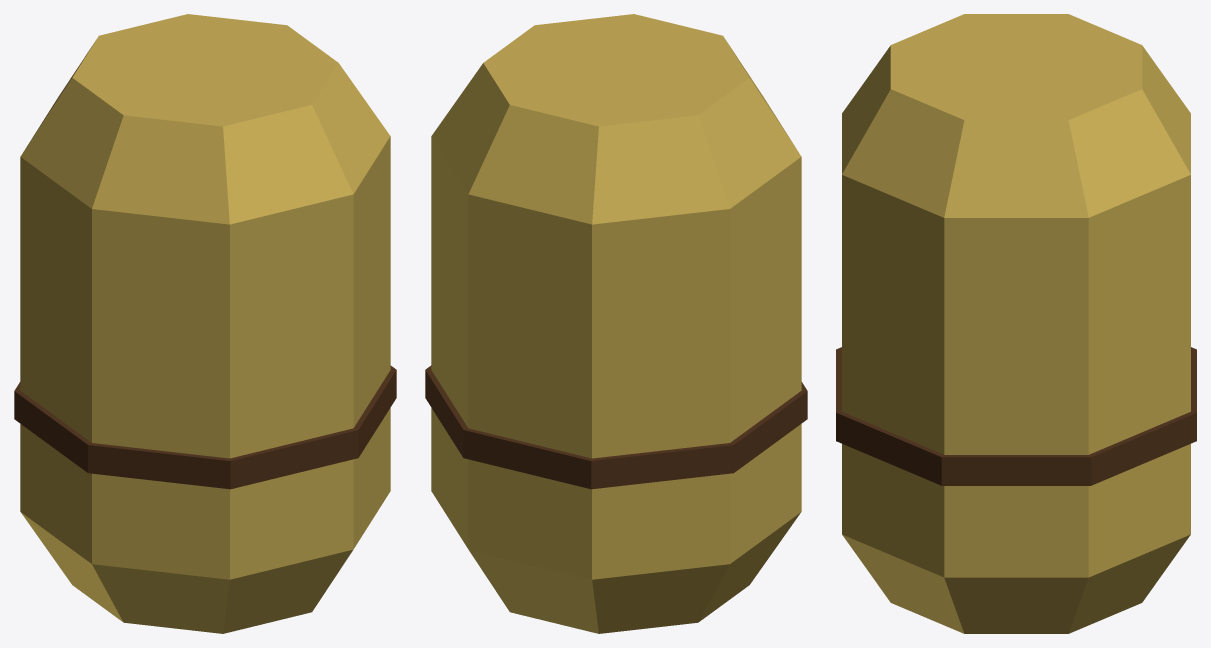
The model's file is hay.glb.
3 renders of one model, left to right at view 1: azimuth 30°, elevation 25°; view 2: azimuth 150°, elevation 25°; view 3: azimuth 270°, elevation 25°, orthographic.
Parts seen in each view (by area): view 1: hay; view 2: hay; view 3: hay.
Boxes of the visible parts, <box> form: hay: <box>14,14,396,633</box>; hay: <box>425,14,807,633</box>; hay: <box>836,14,1196,633</box>.
Bounding box in the file's own units: 0.1146 × 0.18 × 0.1146.
